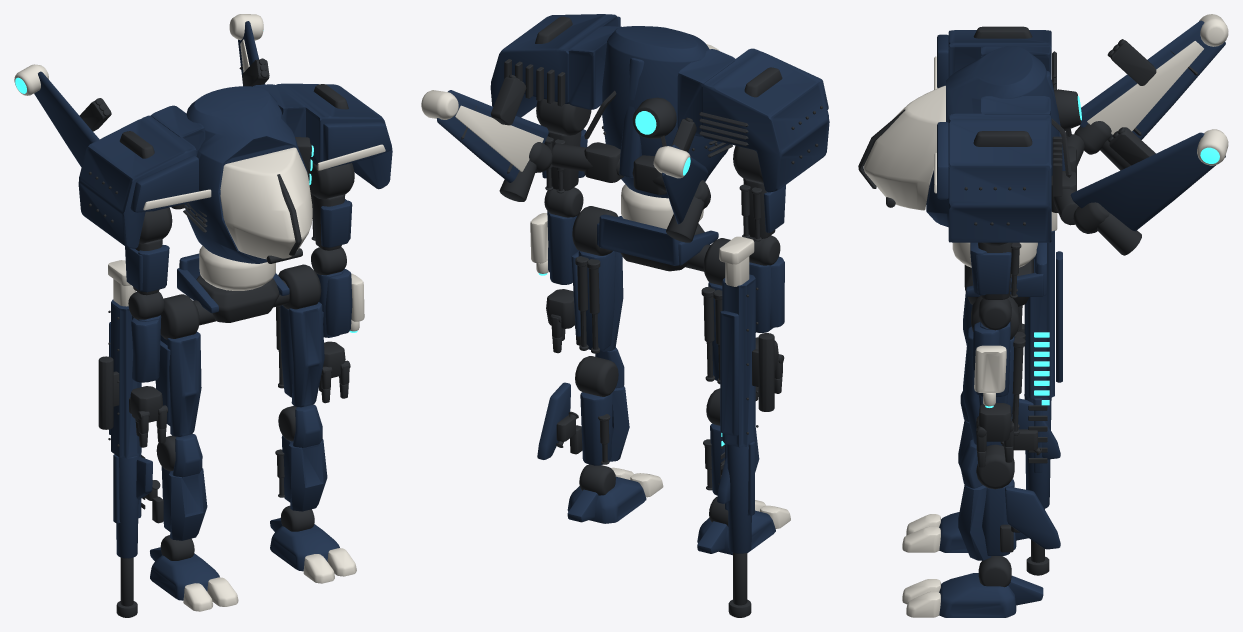
File: Titan_L1.fbx
3 renders of one model, left to right at view 1: azimuth 30°, elevation 25°; view 2: azimuth 150°, elevation 25°; view 3: azimuth 270°, elevation 25°, orthographic. The views are drawn at different scales.
Parts seen in each view (by area): view 1: L1_Mantle_R, L1_Torso_Upper, L1_Hatch, L1_Mantle_L, L1_Rifle_Receiver, L1_Thigh_Plate_L, L1_Thigh_Plate_R, L1_Pelvis, L1_Rifle_Shroud, L1_Shin_Plate_L, L1_Shin_Plate_R, L1_Wing_R (+41 smaller); view 2: L1_Mantle_R, L1_Torso_Upper, L1_Mantle_L, L1_Rifle_Receiver, L1_Collar, L1_Rifle_Shroud, L1_Wing_L, L1_Wing_Top_L, L1_Wing_Boom_L, L1_Thigh_L, L1_Shin_L, L1_Foot_L (+45 smaller); view 3: L1_Mantle_L, L1_Wing_L, L1_Hatch, L1_Torso_Upper, L1_Rifle_Receiver, L1_Wing_R, L1_Mantle_R, L1_Wing_Top_R, L1_Foot_L, L1_Calf_Blade_L, L1_Shin_Plate_L, L1_Tether (+36 smaller).
Boxes of the visible parts, x1=… form: L1_Mantle_R: x1=78, y1=105, x2=205, y2=248; L1_Torso_Upper: x1=185, y1=86, x2=307, y2=263; L1_Hatch: x1=220, y1=147, x2=312, y2=259; L1_Mantle_L: x1=253, y1=83, x2=392, y2=189; L1_Rifle_Receiver: x1=109, y1=299, x2=141, y2=458; L1_Thigh_Plate_L: x1=289, y1=302, x2=324, y2=407; L1_Thigh_Plate_R: x1=167, y1=331, x2=201, y2=436; L1_Pelvis: x1=193, y1=275, x2=289, y2=325; L1_Rifle_Shroud: x1=113, y1=453, x2=141, y2=558; L1_Shin_Plate_L: x1=289, y1=439, x2=327, y2=511; L1_Shin_Plate_R: x1=168, y1=468, x2=207, y2=540; L1_Wing_R: x1=34, y1=71, x2=99, y2=167; L1_Mantle_R: x1=677, y1=48, x2=829, y2=192; L1_Torso_Upper: x1=602, y1=26, x2=729, y2=198; L1_Mantle_L: x1=490, y1=14, x2=621, y2=117; L1_Rifle_Receiver: x1=720, y1=274, x2=755, y2=447; L1_Collar: x1=597, y1=214, x2=718, y2=265; L1_Rifle_Shroud: x1=725, y1=441, x2=754, y2=553; L1_Wing_L: x1=437, y1=90, x2=548, y2=182; L1_Wing_Top_L: x1=455, y1=105, x2=543, y2=171; L1_Wing_Boom_L: x1=551, y1=142, x2=623, y2=182; L1_Thigh_L: x1=578, y1=250, x2=615, y2=350; L1_Shin_L: x1=580, y1=392, x2=612, y2=465; L1_Foot_L: x1=567, y1=476, x2=646, y2=523; L1_Mantle_L: x1=937, y1=96, x2=1051, y2=242; L1_Wing_L: x1=1070, y1=132, x2=1225, y2=231; L1_Hatch: x1=864, y1=85, x2=945, y2=210; L1_Torso_Upper: x1=926, y1=46, x2=1059, y2=227; L1_Rifle_Receiver: x1=1024, y1=230, x2=1062, y2=398; L1_Wing_R: x1=1080, y1=20, x2=1225, y2=139; L1_Mantle_R: x1=937, y1=30, x2=1051, y2=87; L1_Wing_Top_R: x1=1087, y1=41, x2=1203, y2=134; L1_Foot_L: x1=939, y1=573, x2=1016, y2=617; L1_Calf_Blade_L: x1=1005, y1=486, x2=1060, y2=549; L1_Shin_Plate_L: x1=958, y1=485, x2=991, y2=560; L1_Tether: x1=974, y1=345, x2=1006, y2=406.
Size of the model in its own units: 3.56 by 6.35 by 3.81.
